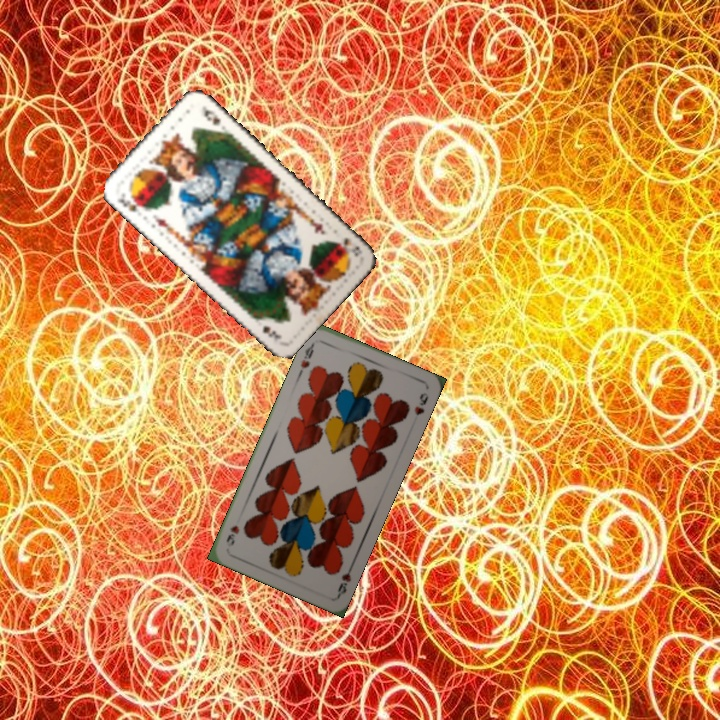H9: (333, 560, 356, 598), (295, 338, 317, 376)
SK: (113, 191, 148, 215), (334, 233, 365, 259)
